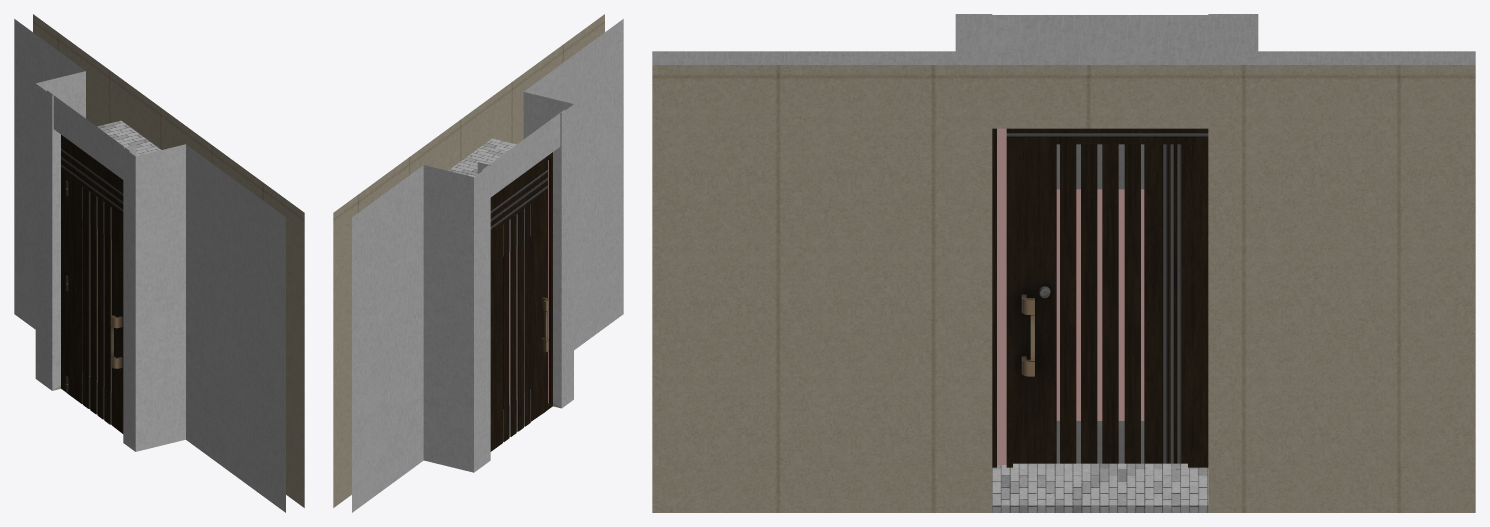
File: AE_House_05_Door_02.fbx
3 renders of one model, left to right at view 1: azimuth 30°, elevation 25°; view 2: azimuth 150°, elevation 25°; view 3: azimuth 270°, elevation 25°, orthographic. The views are drawn at different scales.
Parts seen in each view (by area): view 1: AE_House_05_Door_02, AE_Door_02_LOD0.003; view 2: AE_House_05_Door_02, AE_Door_02_LOD0.003; view 3: AE_House_05_Door_02, AE_Door_02_LOD0.003.
Part boxes in pixels (x1,y1,x2,y2): AE_House_05_Door_02: (14, 14, 304, 512); AE_Door_02_LOD0.003: (67, 175, 123, 433); AE_House_05_Door_02: (333, 14, 623, 512); AE_Door_02_LOD0.003: (490, 193, 548, 451); AE_House_05_Door_02: (652, 14, 1475, 512); AE_Door_02_LOD0.003: (1013, 144, 1187, 463).
Size of what is drawn, in the model's own units: 73.43 by 300 by 500.
